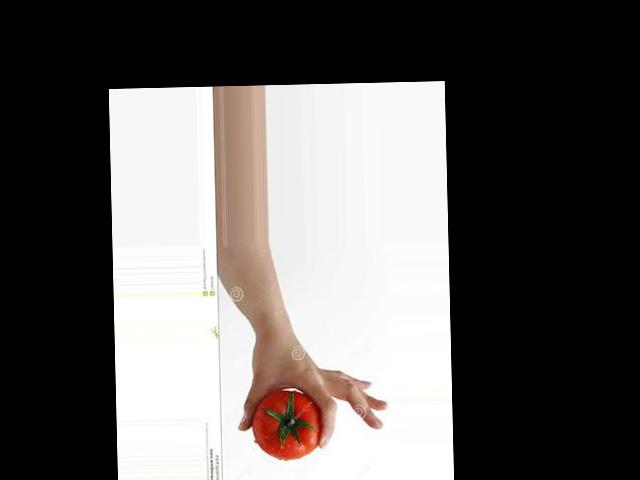tomato: (251, 389, 323, 461)
